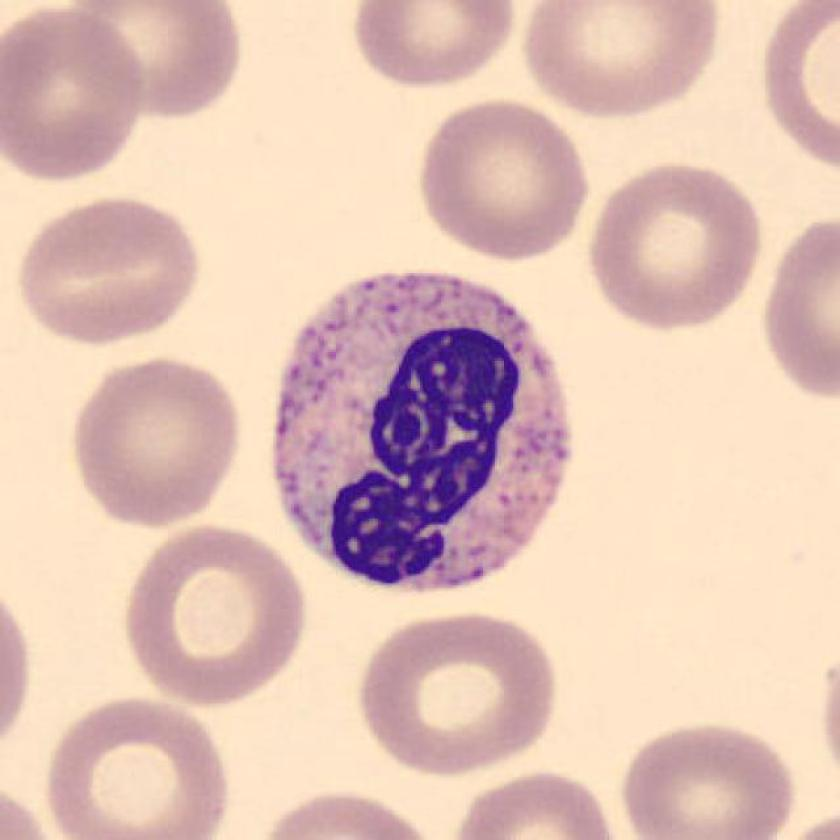neutrophil: (277, 273, 569, 589)
